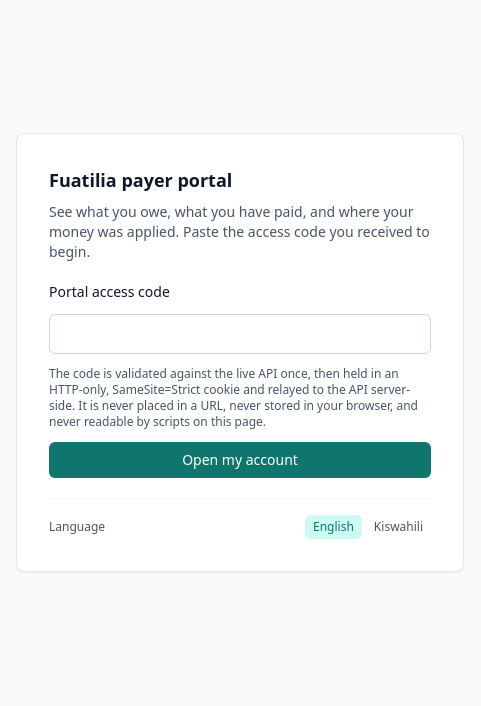
Test: PortalGate › renders the clean refused state with the contract code + requestId on 401
This screenshot has width=481, height=706.
Type "0f1e2d3c-4b5a-4968-8776-6554433221ff" into the password field labelled "Portal access code". click: {"x": 240, "y": 334}
box: [49,314,431,354]
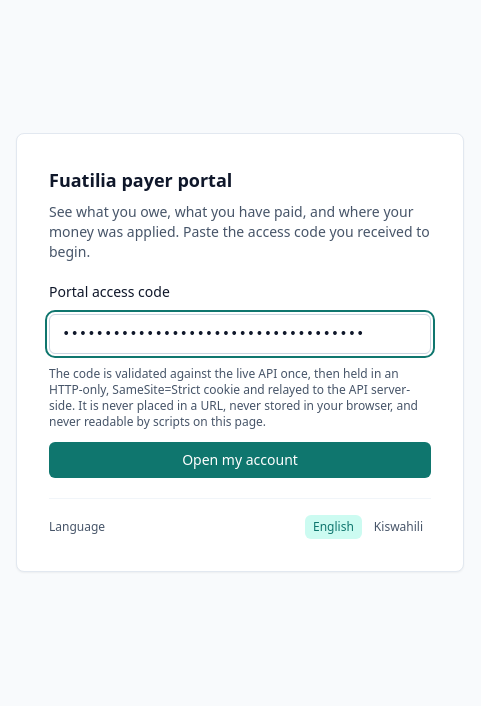
Click the button "Open my account". click: {"x": 240, "y": 460}
box: [49,442,431,478]
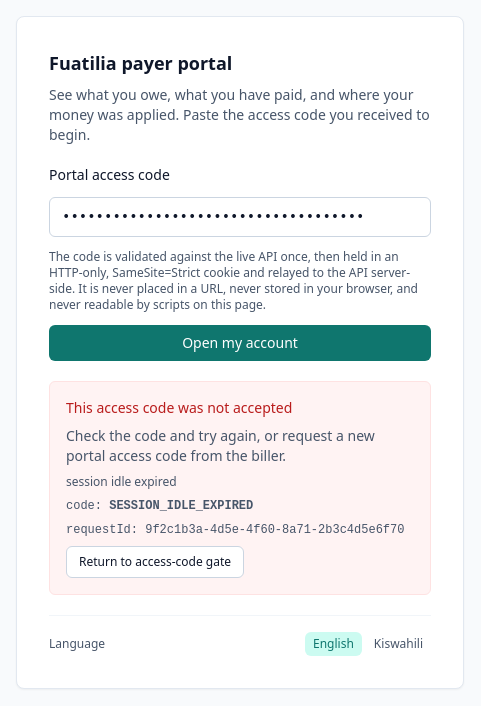
Now the message with test id "access-refused" shows "This access code was not accepted", box [66,398,292,417]
Now the message with test id "access-refused" shows "SESSION_IDLE_EXPIRED", box [109,499,253,513]
Now the message with test id "access-refused" shows "9f2c1b3a-4d5e-4f60-8a71-2b3c4d5e6f70", box [145,523,404,537]
